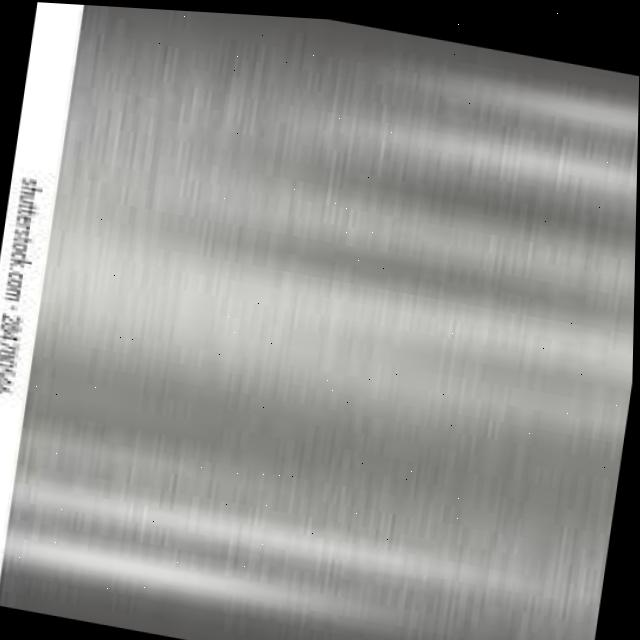Dry: (16, 4, 639, 640)
